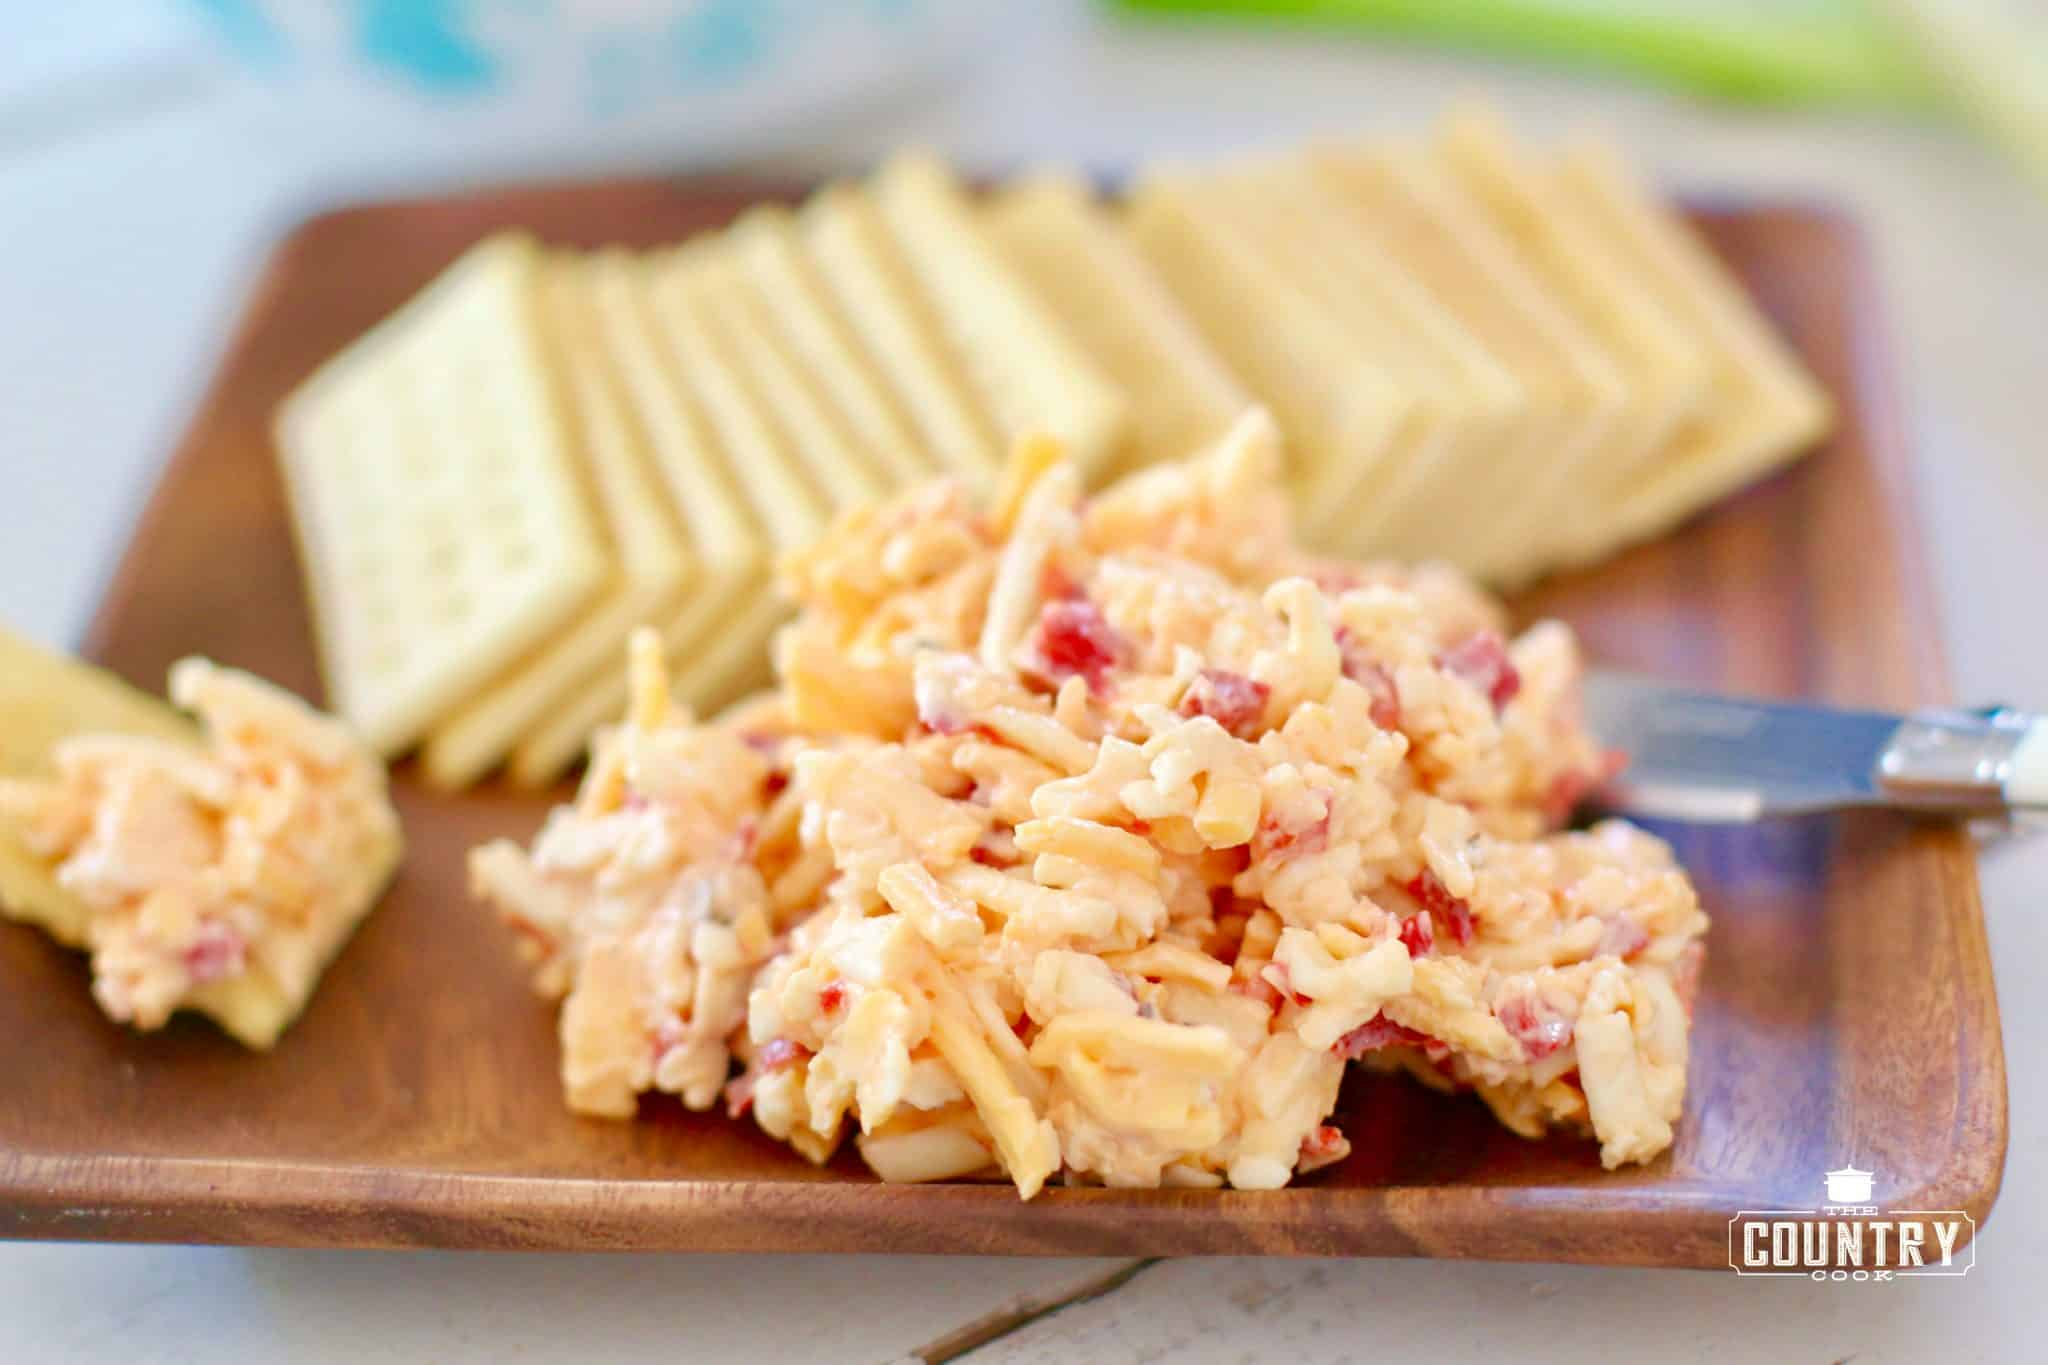cheese: (515, 475, 1774, 1217)
